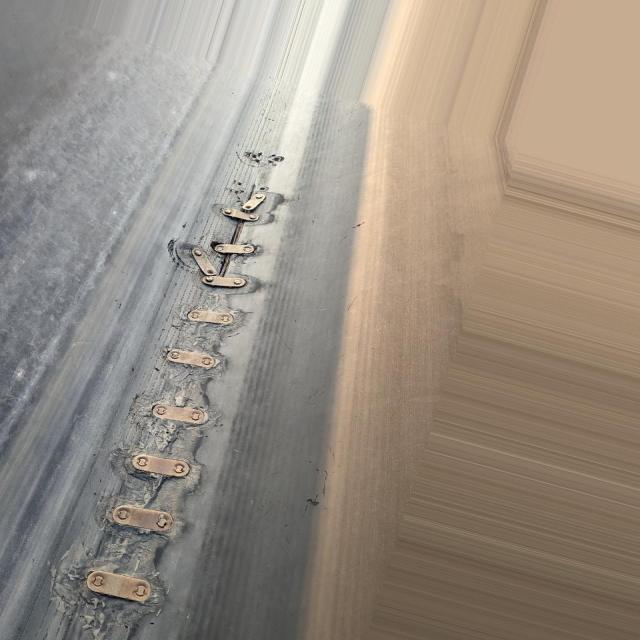patch work: (37, 144, 297, 640)
